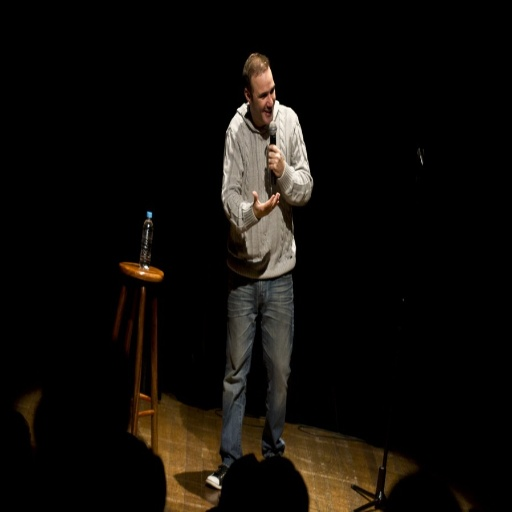hand: (250, 186, 281, 220), (266, 147, 285, 177)
